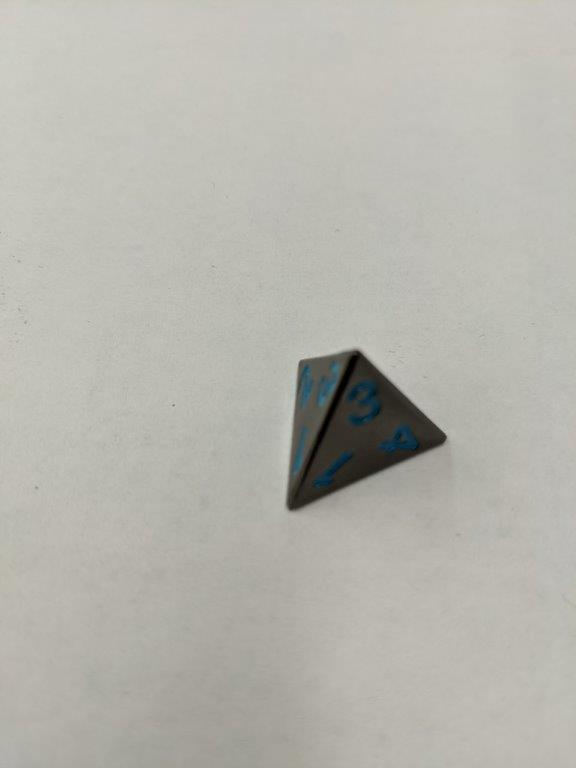d4-3: (284, 346, 450, 515)
